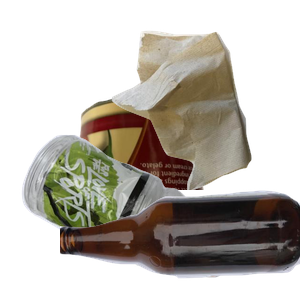glass: (60, 188, 300, 300)
metal: (69, 93, 265, 273)
plastic: (19, 132, 242, 300)
trash: (109, 28, 300, 208)
